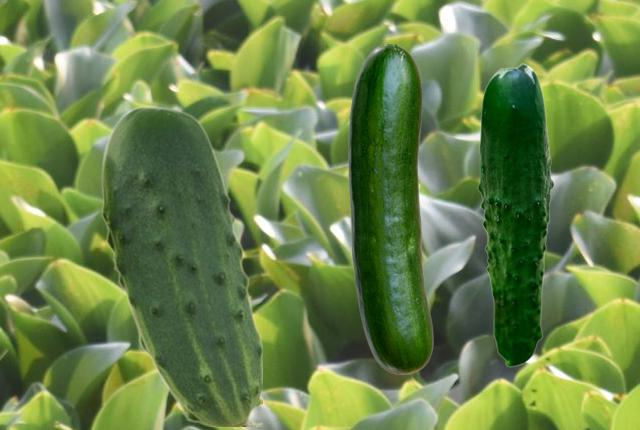cucumber: (101, 105, 261, 425), (348, 44, 432, 373), (477, 63, 553, 366)
